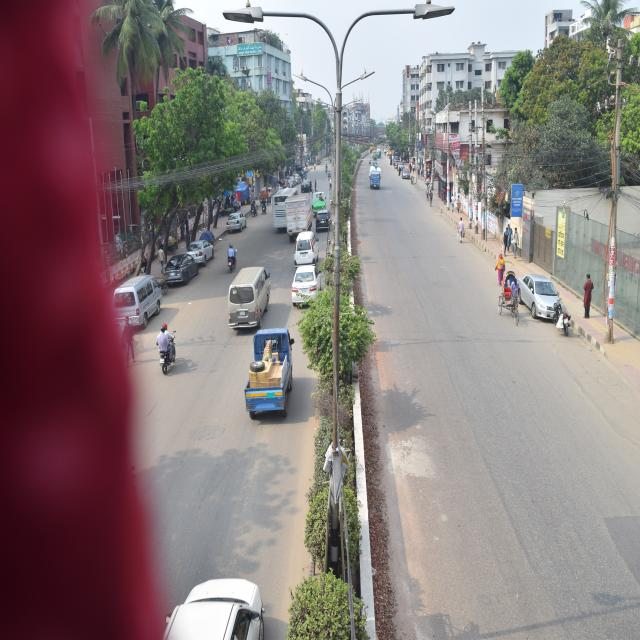car: (521, 278, 558, 312), (164, 248, 192, 286), (294, 262, 316, 308), (192, 230, 208, 262), (230, 210, 248, 234), (314, 207, 331, 232)
microbus: (231, 259, 268, 333), (116, 281, 162, 324), (290, 224, 321, 265), (270, 182, 294, 228)
motorbike: (155, 324, 175, 368), (556, 303, 574, 336), (224, 244, 239, 274)
pickup-van: (245, 328, 292, 426), (281, 188, 315, 234), (368, 166, 386, 192)
